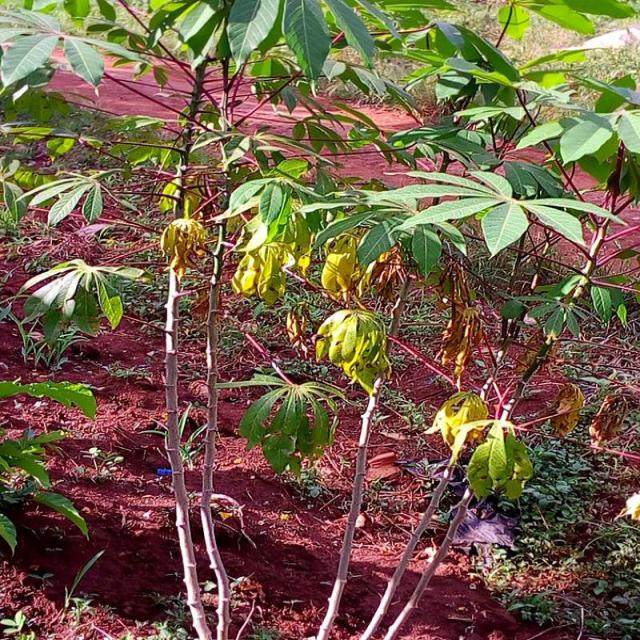cassava leaf: (314, 307, 390, 395), (466, 418, 532, 501)
